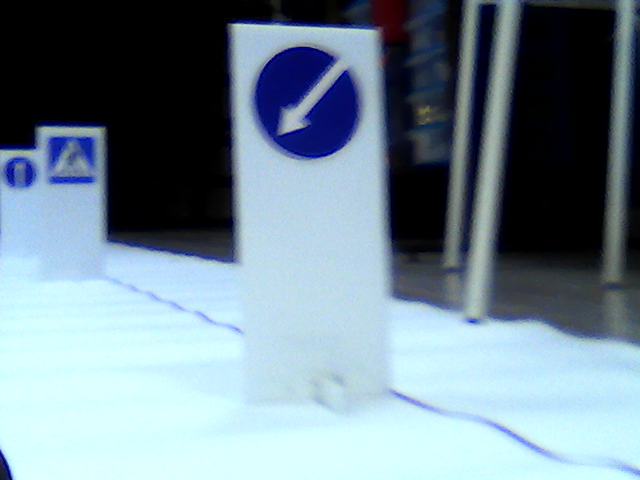pesh: (47, 137, 96, 180)
prep: (248, 44, 365, 163)
